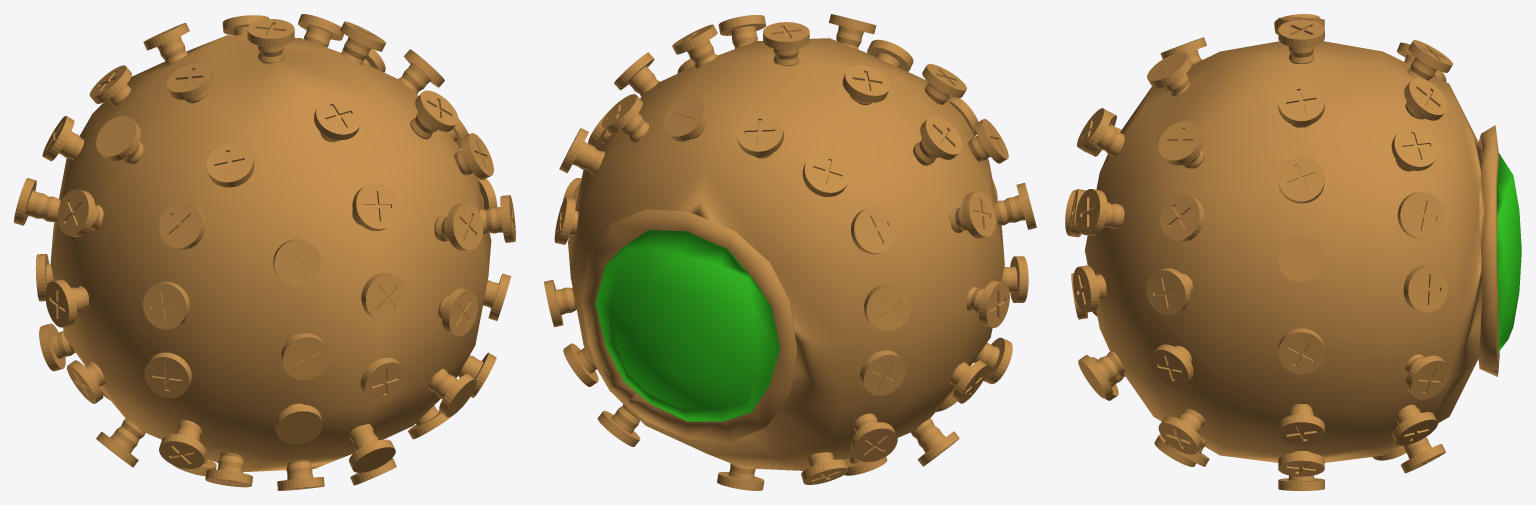
Rendered from Head.fbx.
3 views of the same model, side by side, from view 1: azimuth 30°, elevation 25°; view 2: azimuth 150°, elevation 25°; view 3: azimuth 270°, elevation 25° (orthographic).
Visible parts, largest first — view 1: Nails; view 2: Nails; view 3: Nails.
Part boxes in pixels (bbox=[...]): Nails: bbox=[14, 14, 515, 490]; Nails: bbox=[544, 14, 1036, 490]; Nails: bbox=[1065, 14, 1521, 490].
Size of the model in its own units: 356 by 343 by 333.
